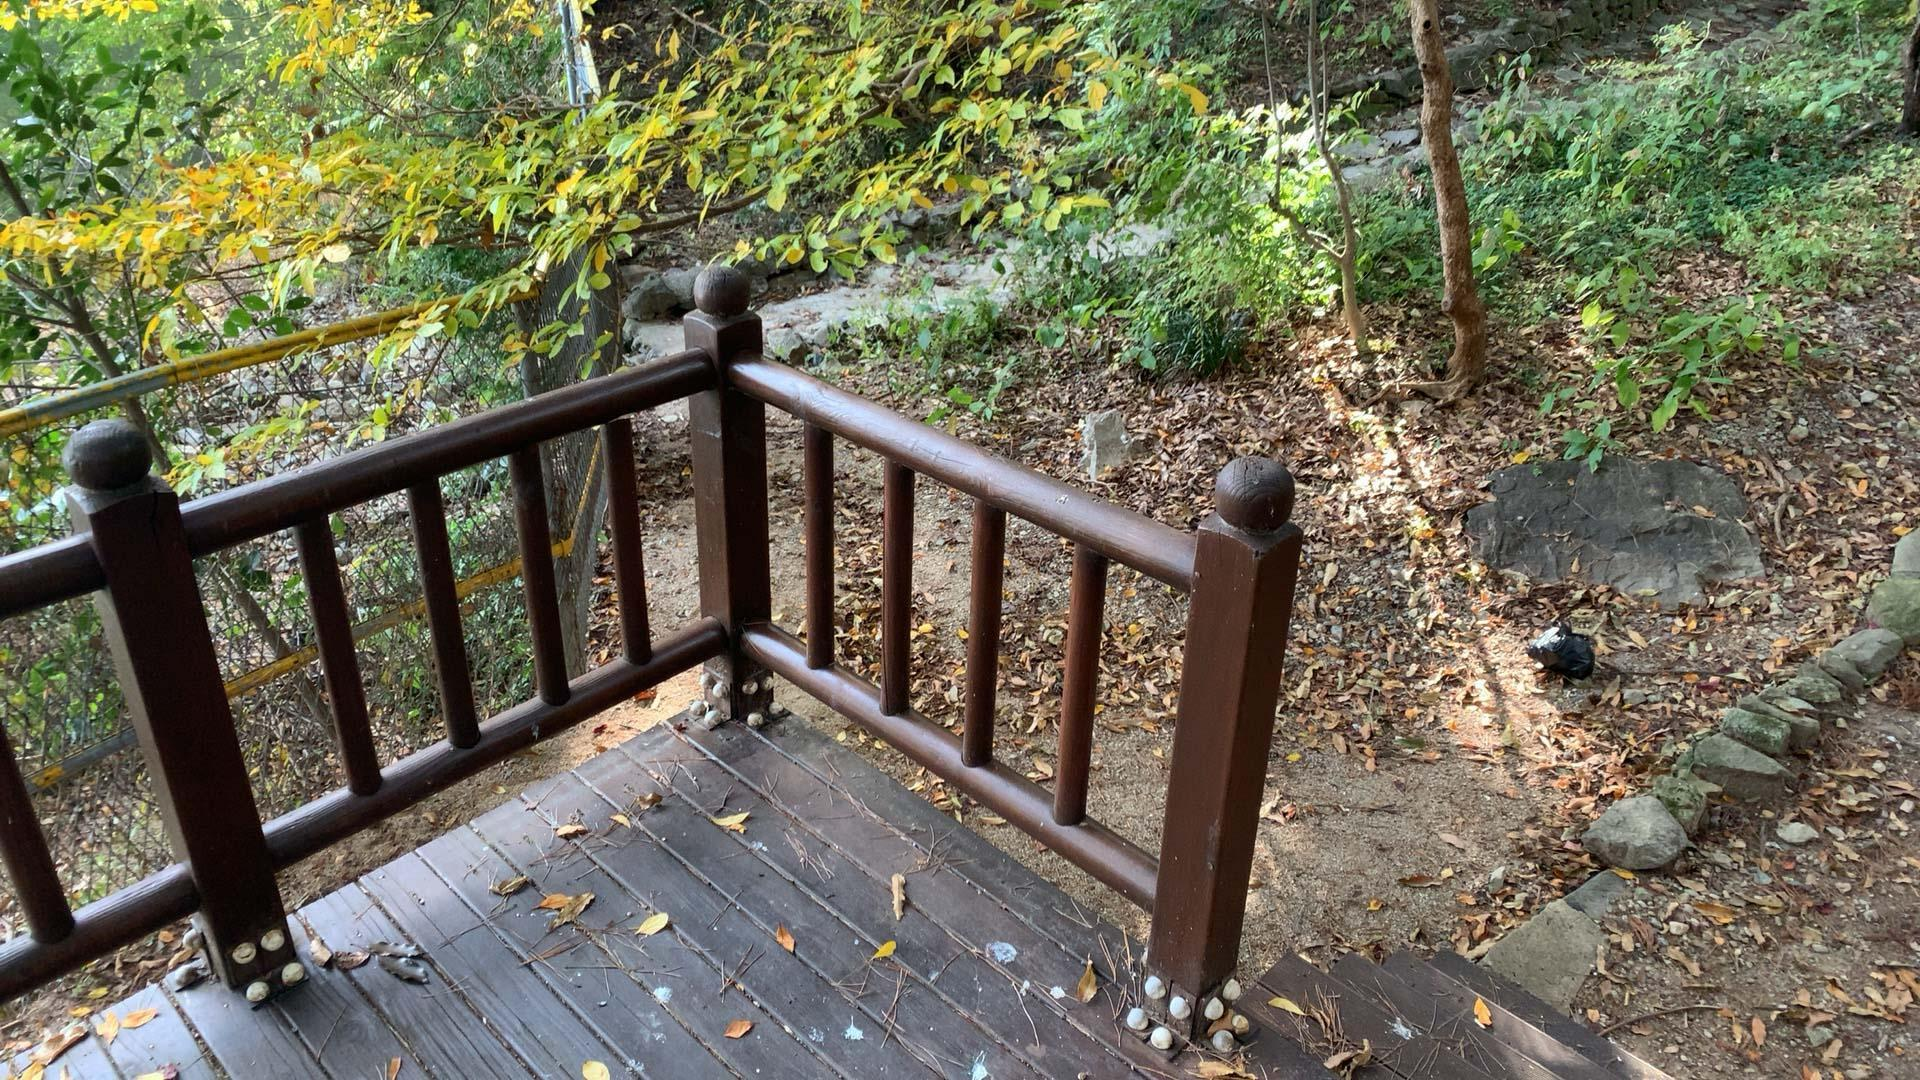black_bag: (1524, 615, 1598, 683)
